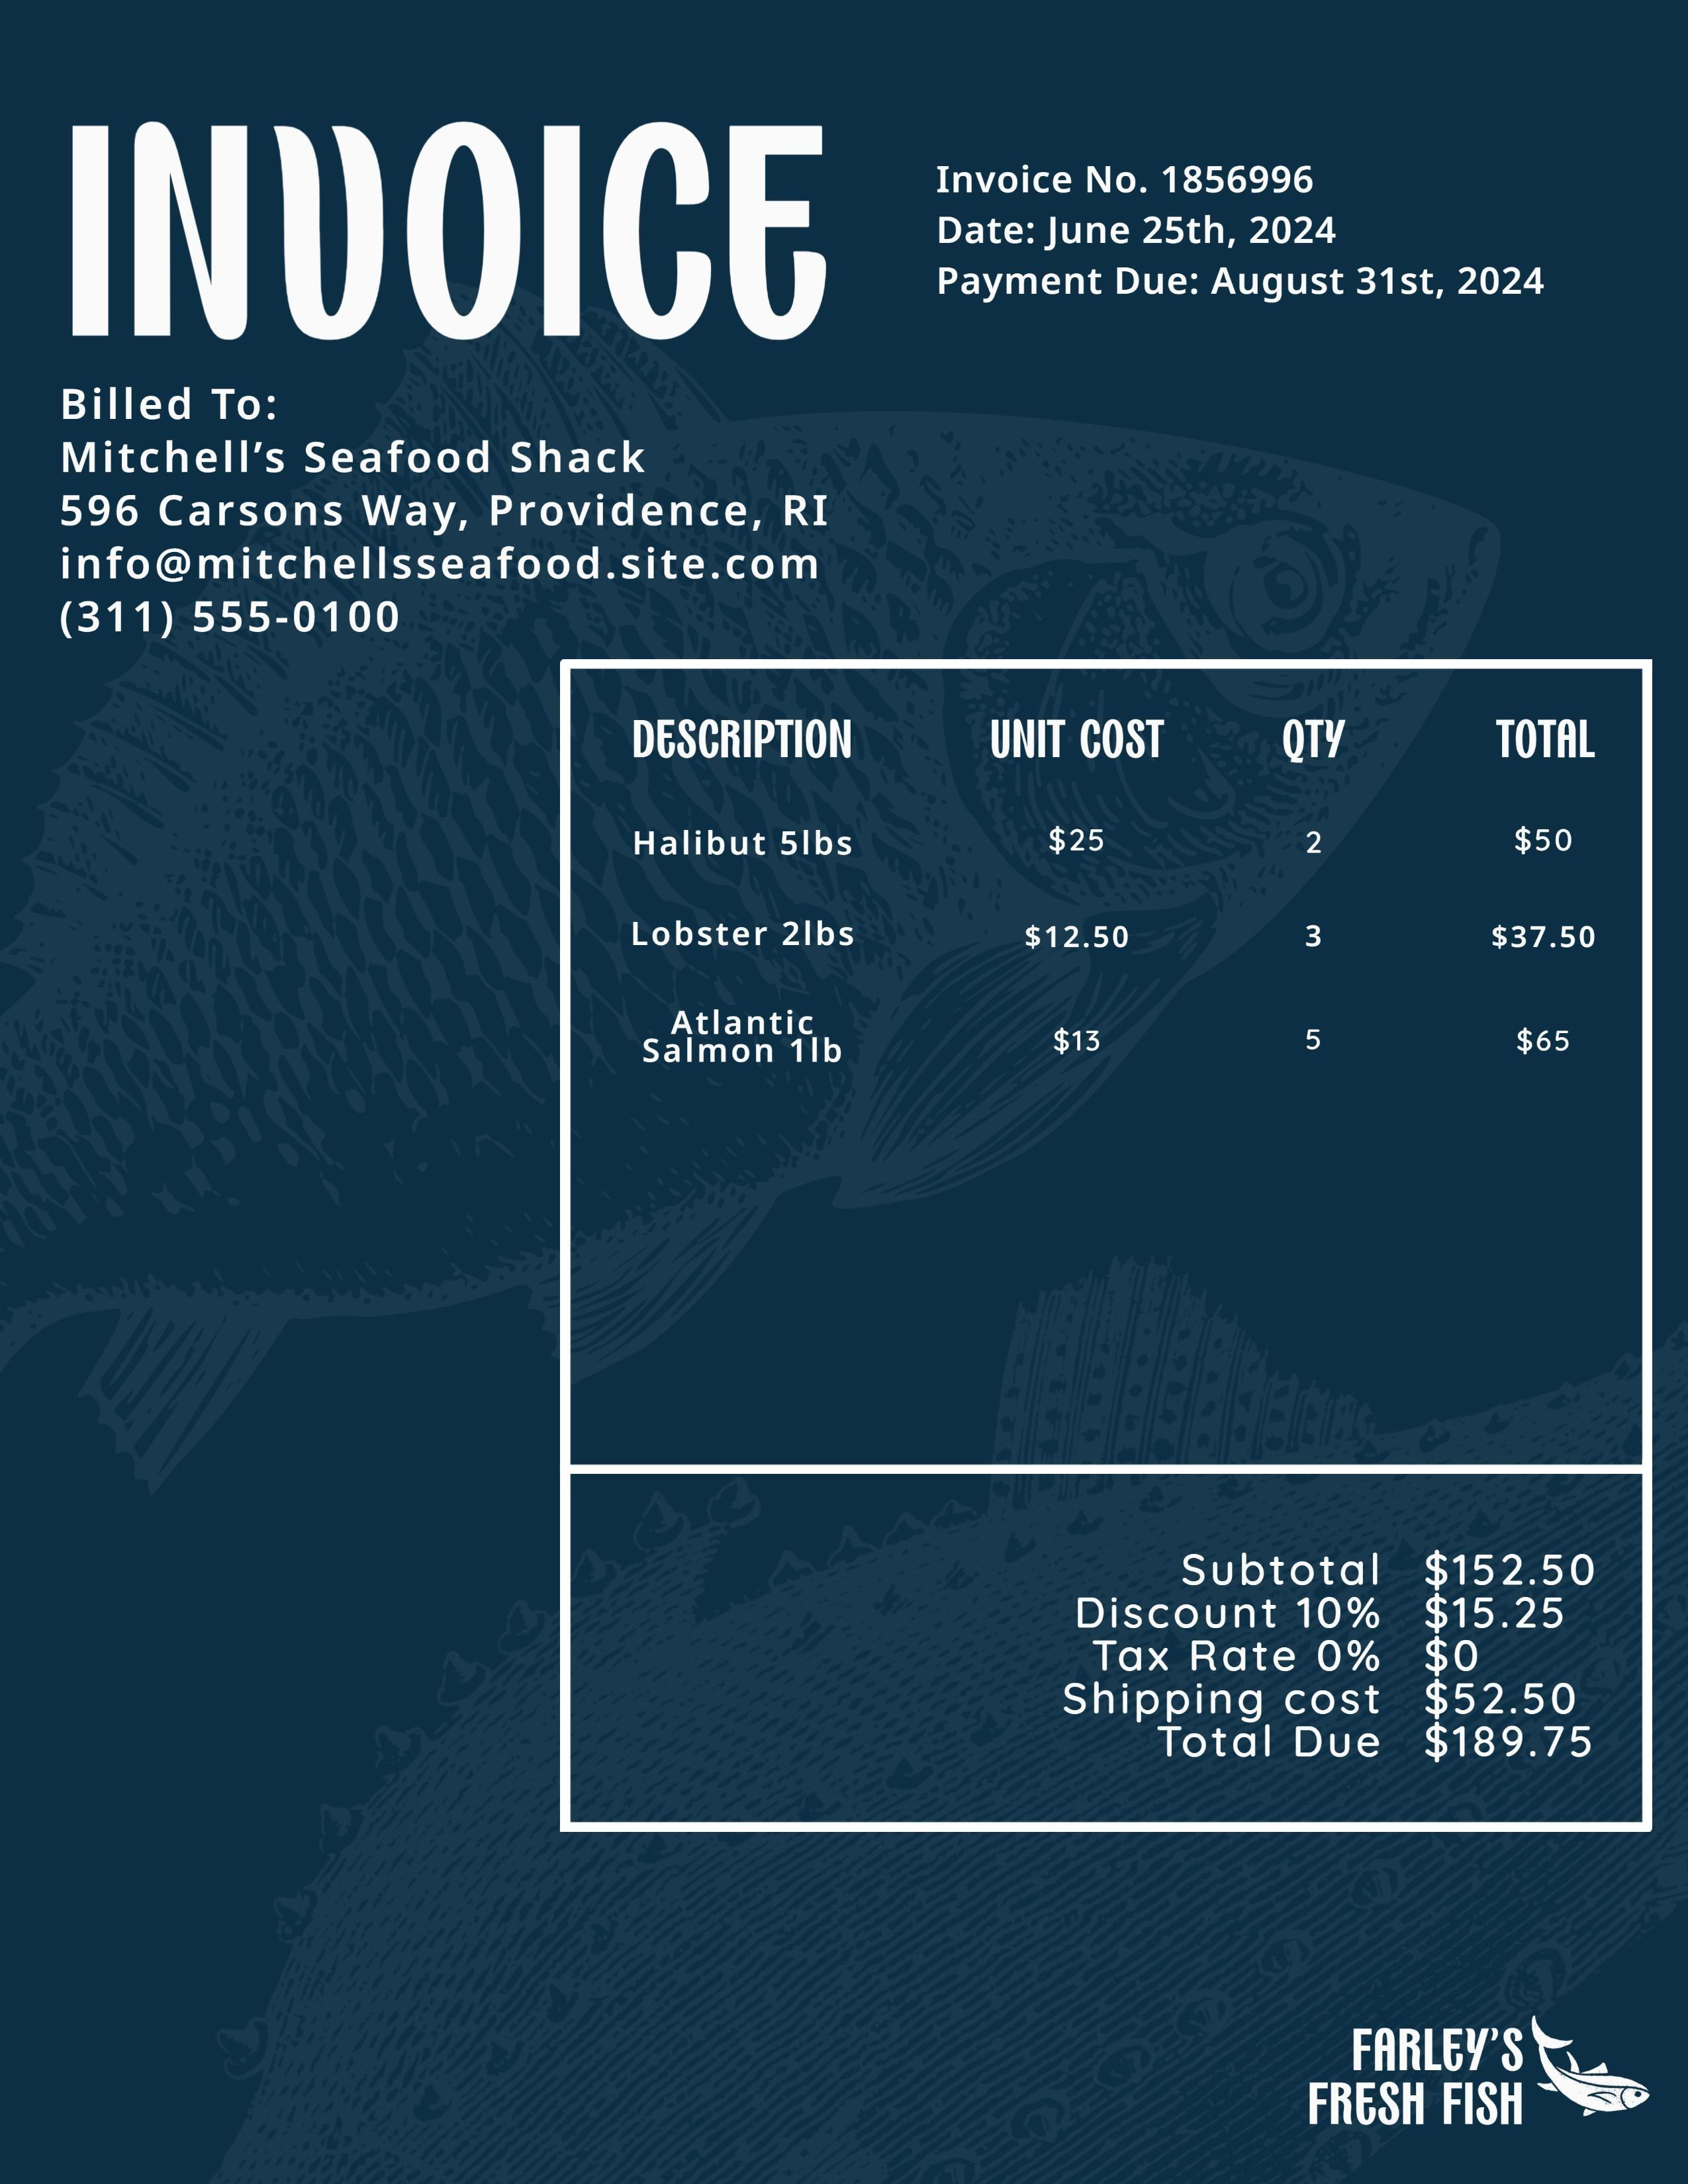ROI: (582, 702, 1624, 1438), (50, 381, 890, 642), (1048, 1521, 1622, 1801), (929, 151, 1548, 250), (929, 259, 1550, 314), (1294, 2014, 1530, 2136)
